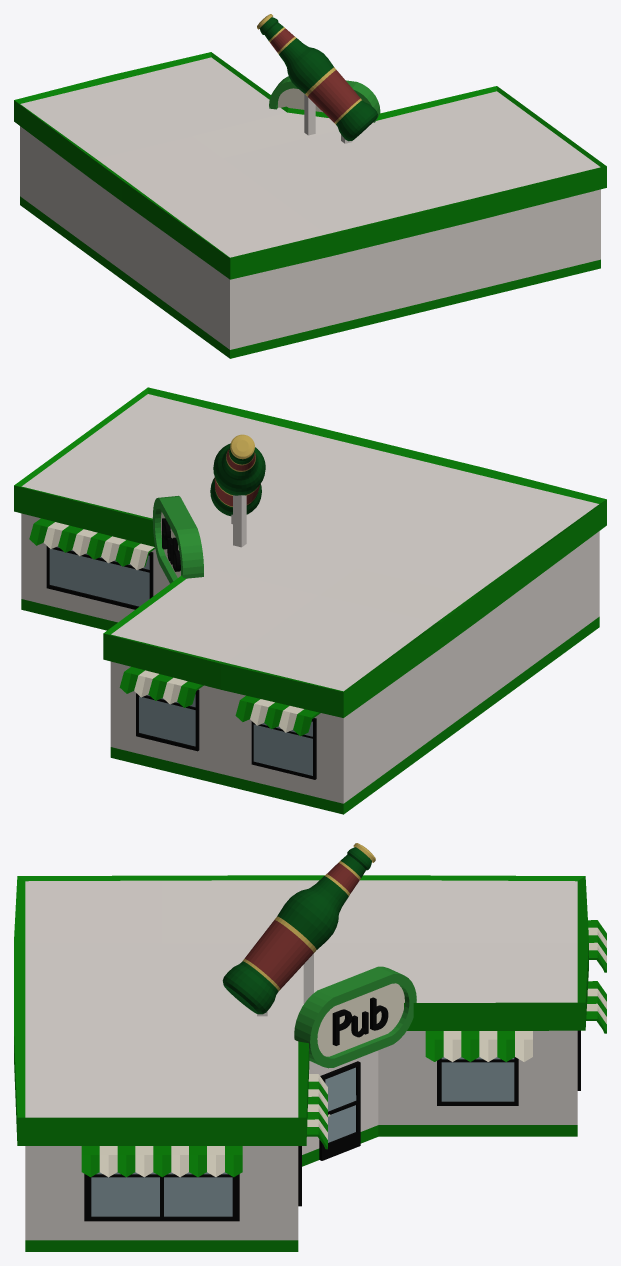
The model's file is Pub.fbx.
The picture shows the model from 3 angles, top to bottom: view 1: azimuth 30°, elevation 25°; view 2: azimuth 150°, elevation 25°; view 3: azimuth 270°, elevation 25°; orthographic projection. The views are drawn at different scales.
Visible parts, largest first — view 1: Pub; view 2: Pub; view 3: Pub.
Boxes of the visible parts, box(x1,y1,x2,y2) form: Pub: box(14, 14, 606, 358); Pub: box(14, 387, 606, 814); Pub: box(14, 843, 606, 1251).
Size of the model in its own units: 1429 by 727 by 1413.
